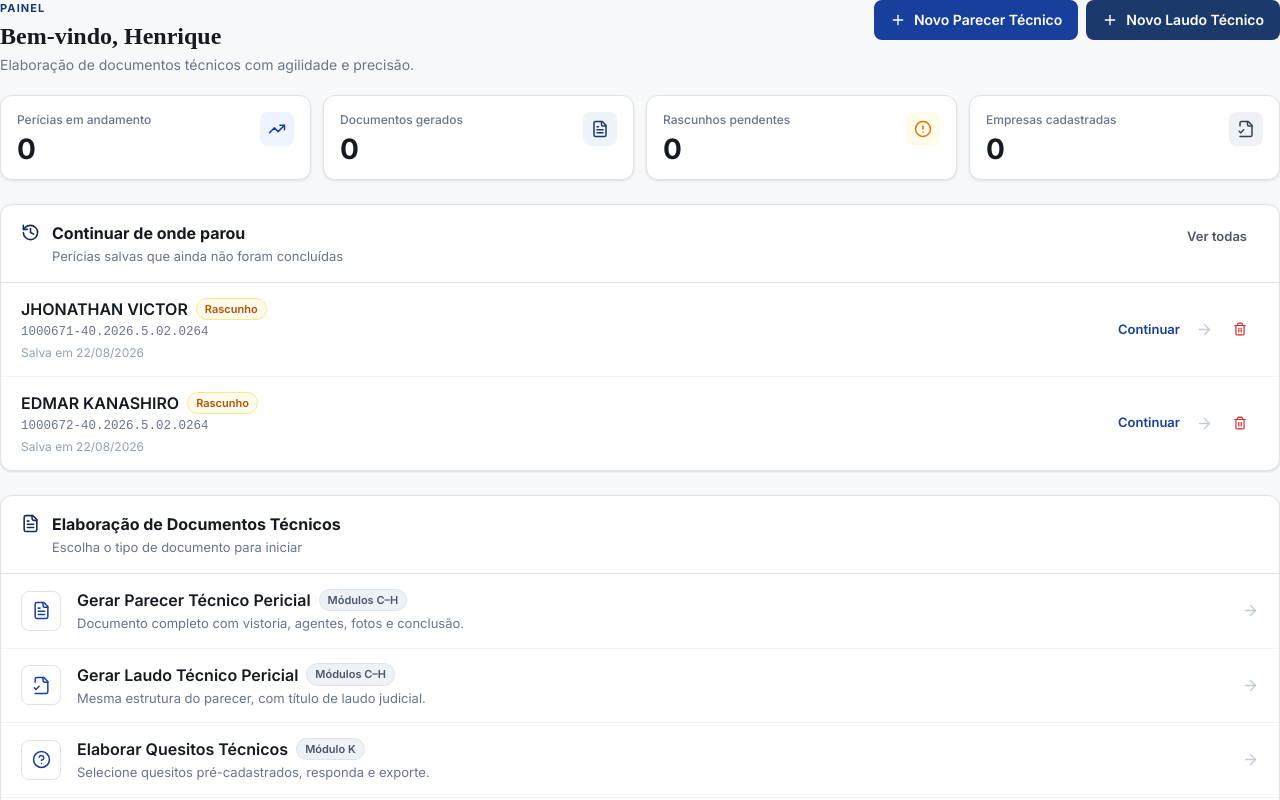
Test: Início — descartar o que ficou em aberto › cada perícia em aberto pode ser excluída dali mesmo
The width and height of the screenshot is (1280, 800).
Click the button named "Excluir perícia de EDMAR KANASHIRO": [1240, 423] box x1=1221 y1=407 x2=1259 y2=439
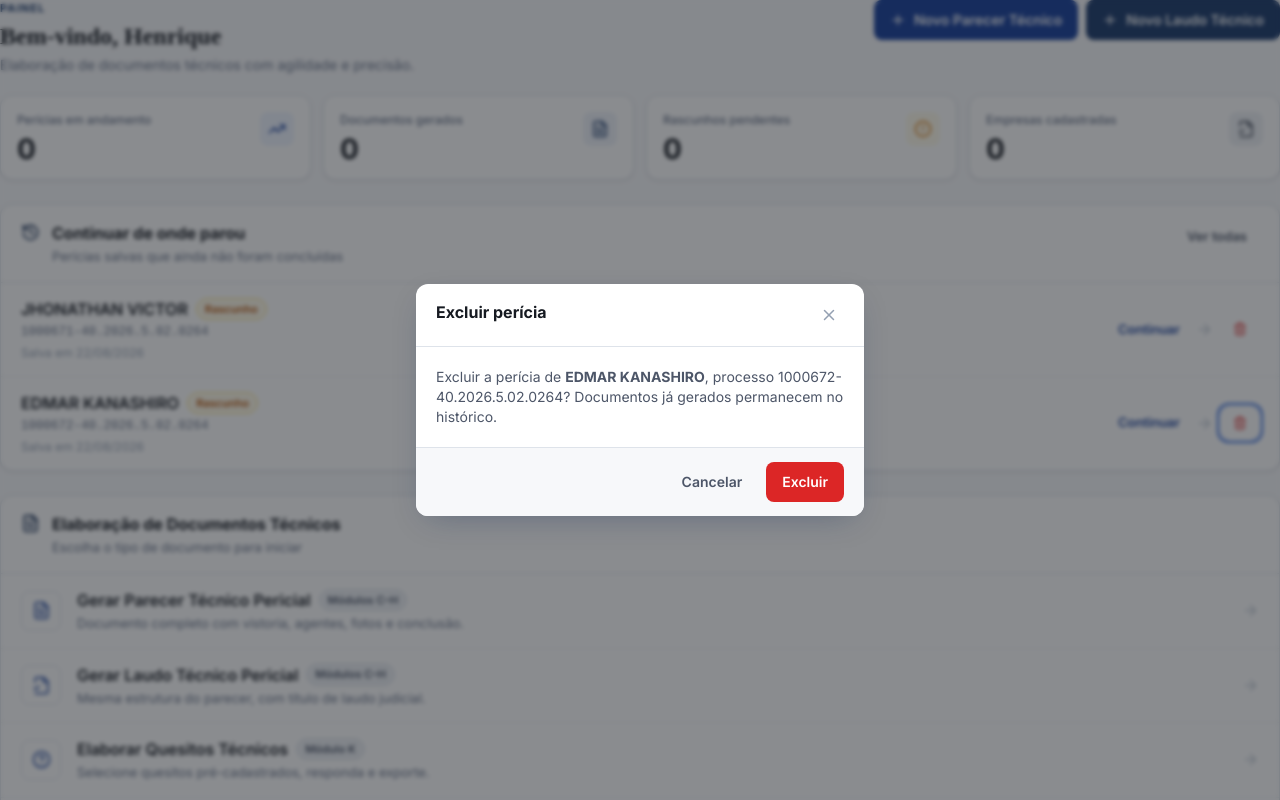
Click the button "Excluir": [805, 482] box x1=766 y1=462 x2=844 y2=502
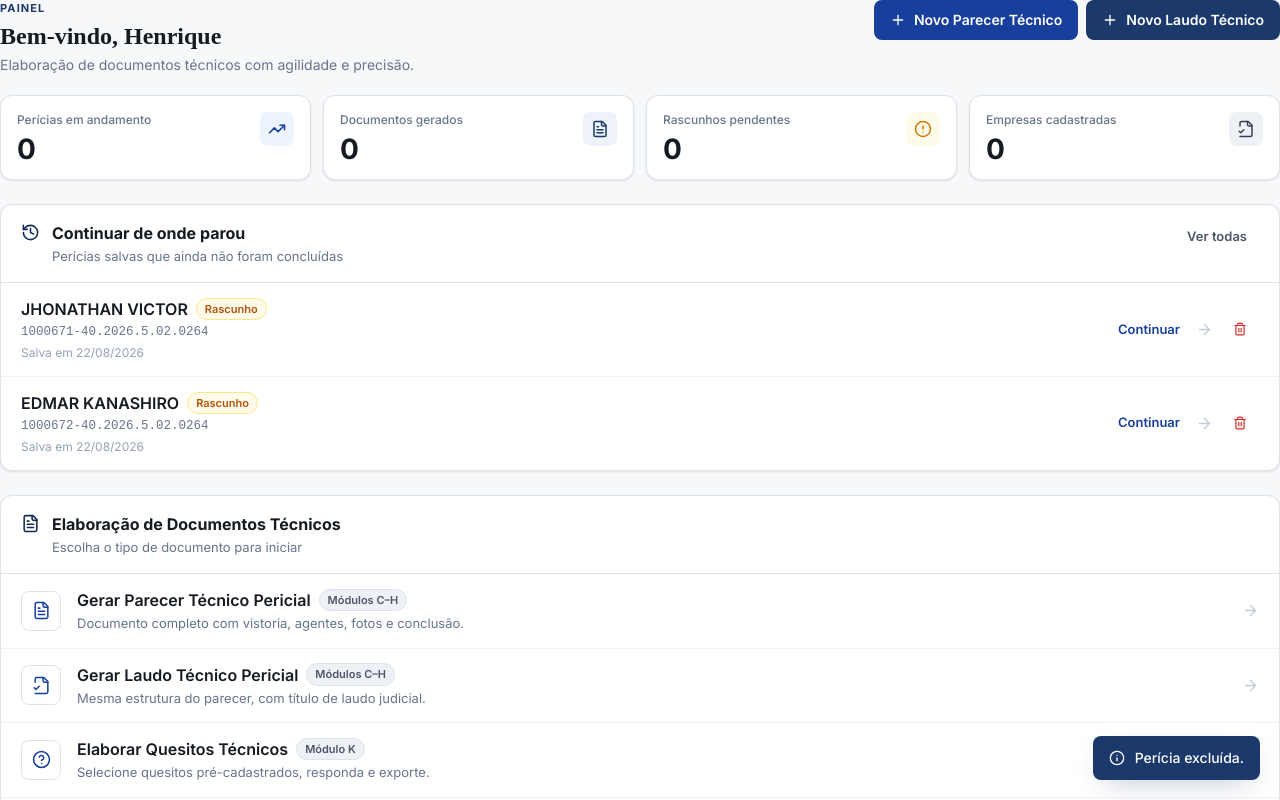
Expected: the text "Perícia excluída." is shown, x1=1135 y1=748 x2=1244 y2=768
